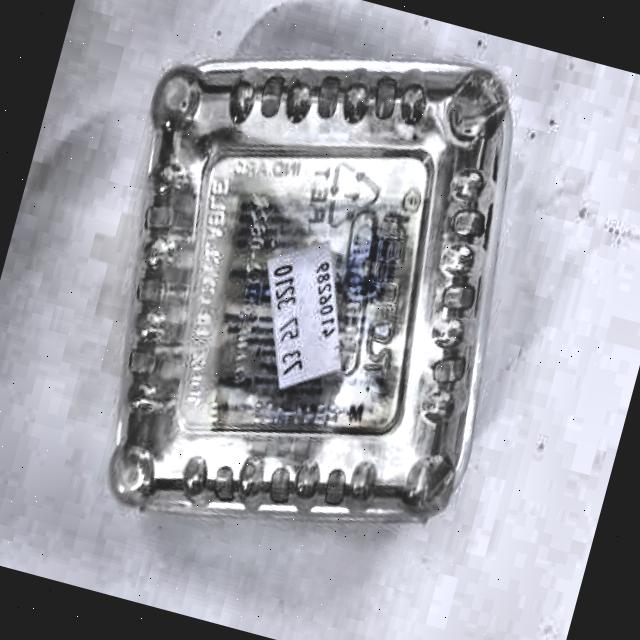plastic: (61, 0, 563, 598)
